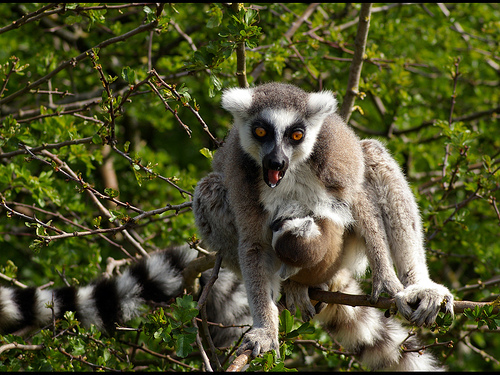cat: (189, 81, 458, 374)
